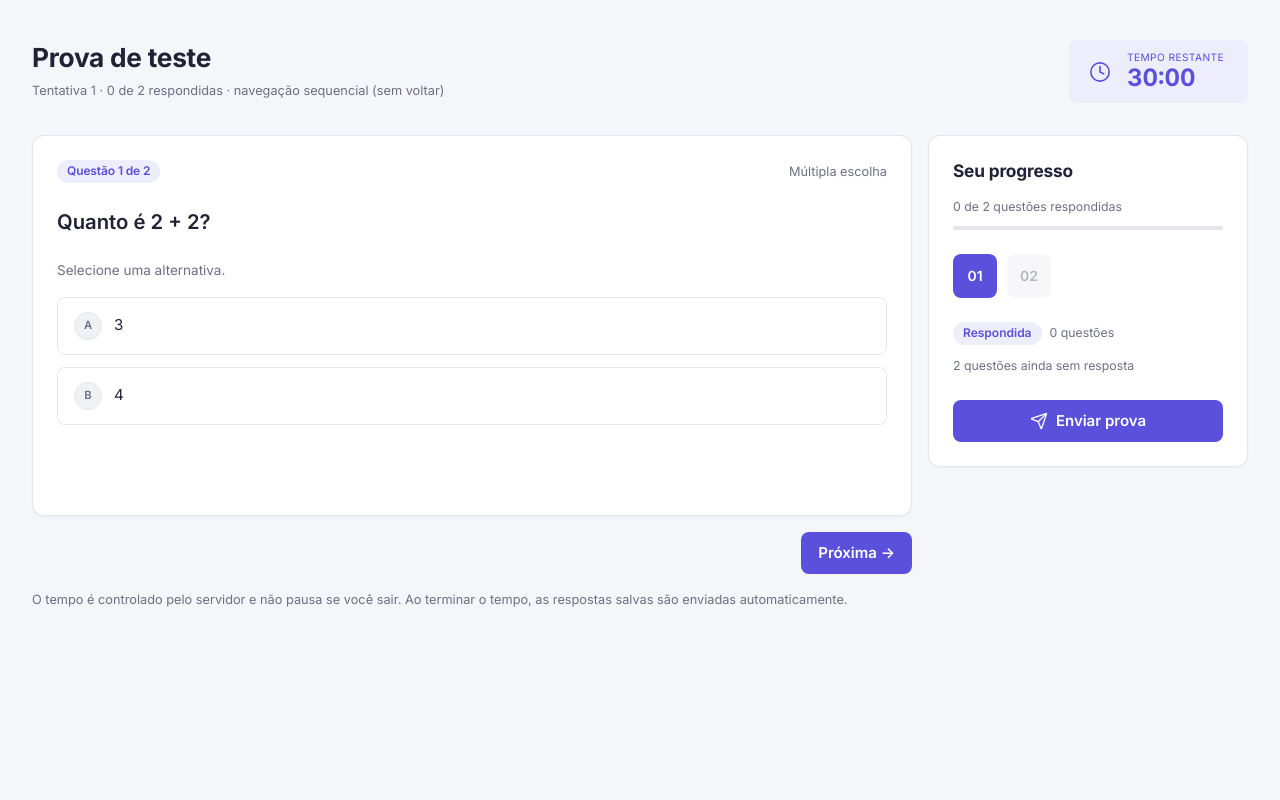
it: ExecucaoProva › navegação sequencial não permite voltar
Click the button "Próxima →": (857, 553) left=801, top=532, right=912, bottom=574
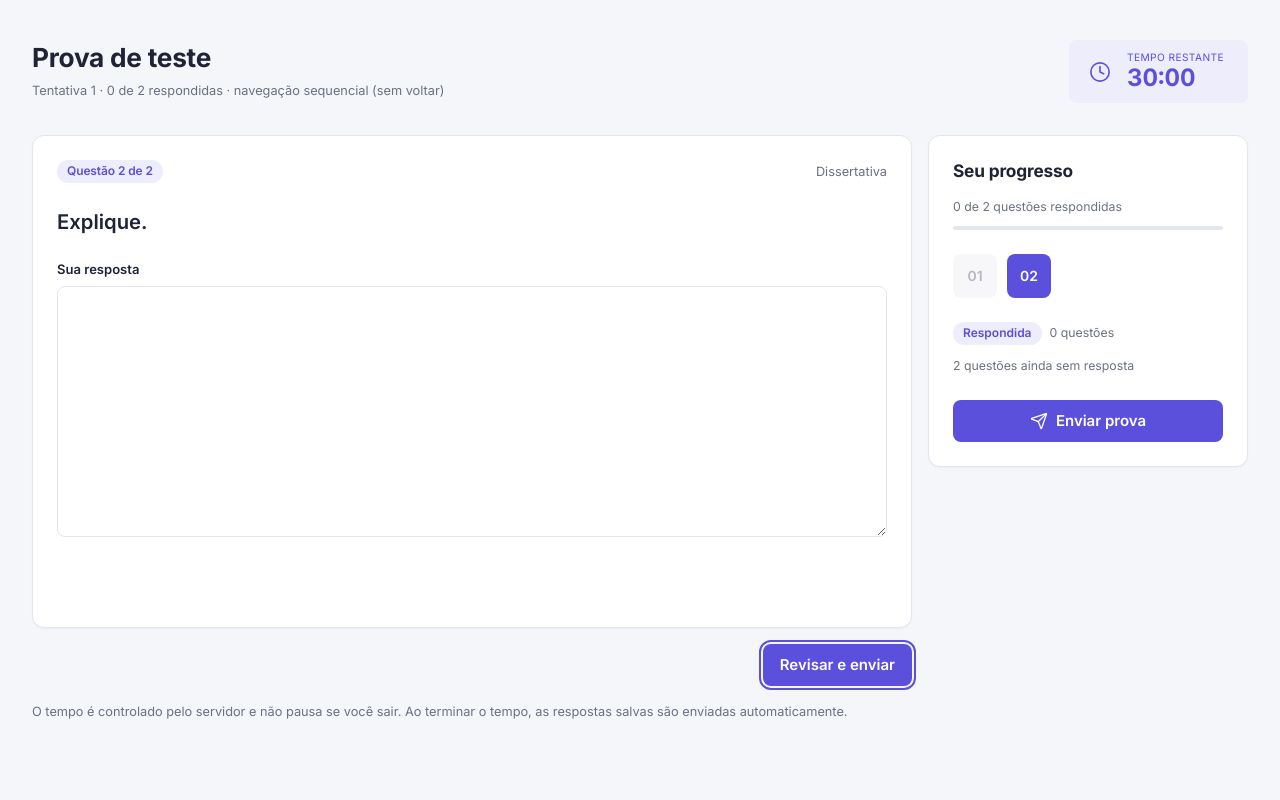
Result: the text "Explique." is shown at left=57, top=209, right=148, bottom=234
Result: the button named "Questão 1" is disabled at left=953, top=254, right=997, bottom=298
